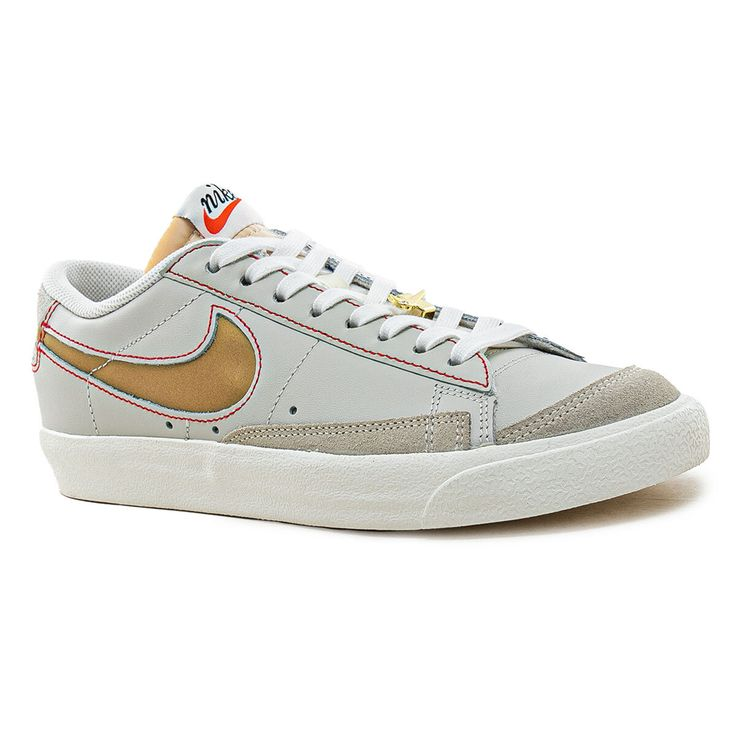gamuza: (221, 362, 682, 455)
